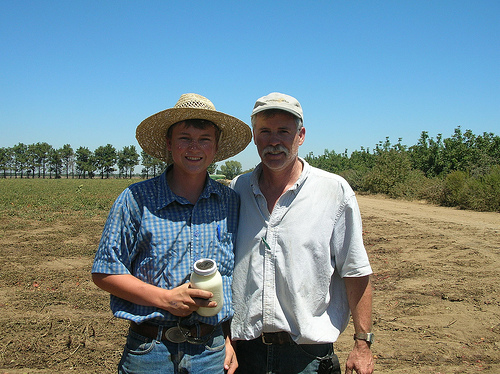without_mask: (164, 116, 222, 175), (251, 112, 306, 167)
